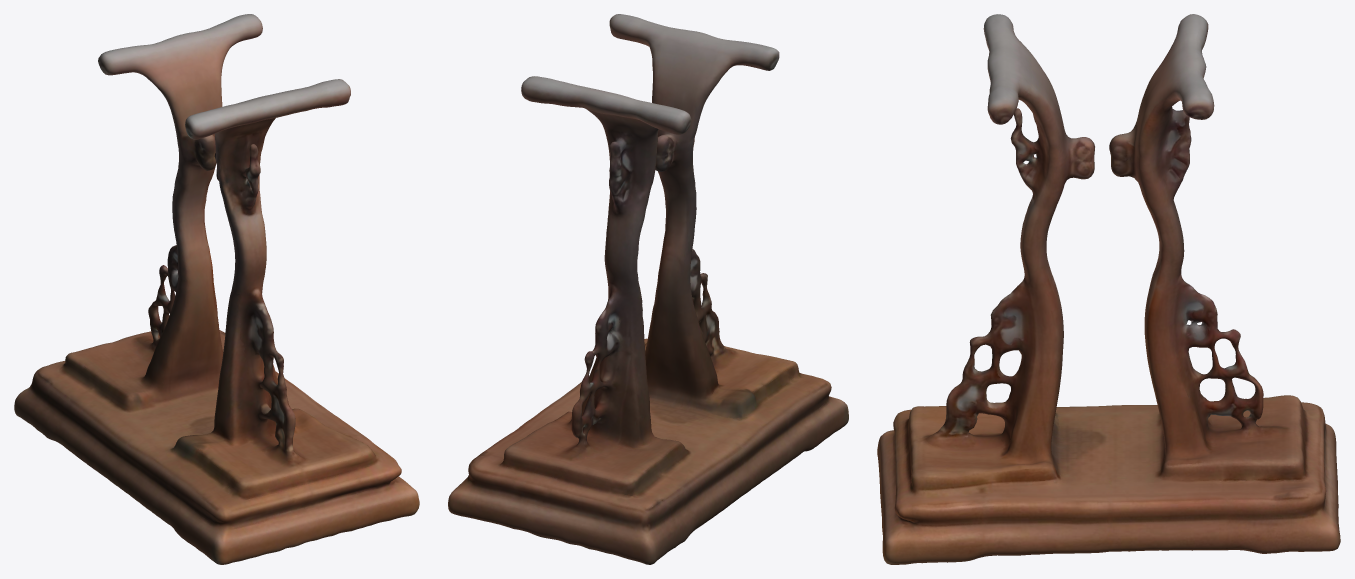
3 renders of one model, left to right at view 1: azimuth 30°, elevation 25°; view 2: azimuth 150°, elevation 25°; view 3: azimuth 270°, elevation 25°, orthographic. The views are drawn at different scales.
Parts seen in each view (by area): view 1: tripo_215092f7-65c0-46d7-8f05-1a49ad790ff8; view 2: tripo_215092f7-65c0-46d7-8f05-1a49ad790ff8; view 3: tripo_215092f7-65c0-46d7-8f05-1a49ad790ff8.
Part boxes in pixels (x1=…): tripo_215092f7-65c0-46d7-8f05-1a49ad790ff8: x1=14, y1=14, x2=419, y2=564; tripo_215092f7-65c0-46d7-8f05-1a49ad790ff8: x1=448, y1=14, x2=848, y2=564; tripo_215092f7-65c0-46d7-8f05-1a49ad790ff8: x1=877, y1=14, x2=1340, y2=564.
Bounding box in the file's own units: 42.91 × 79.32 × 72.44.
Materials: 1 (1 with a texture image).
